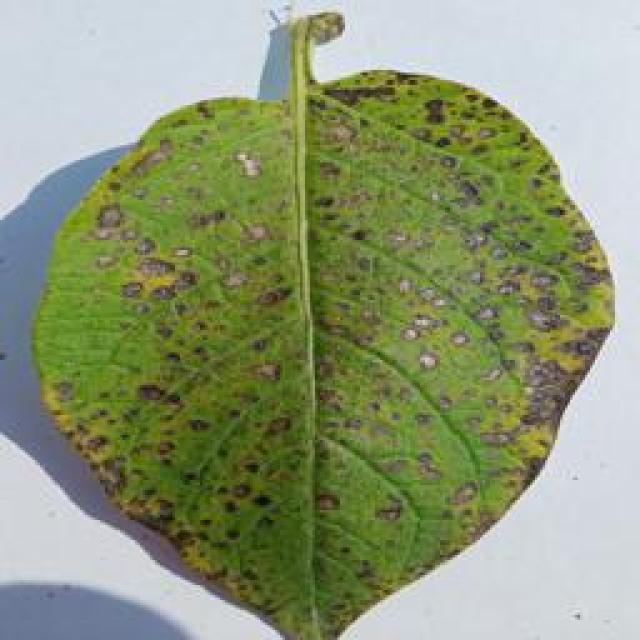Potato_Early_Blight: (28, 61, 640, 640)
